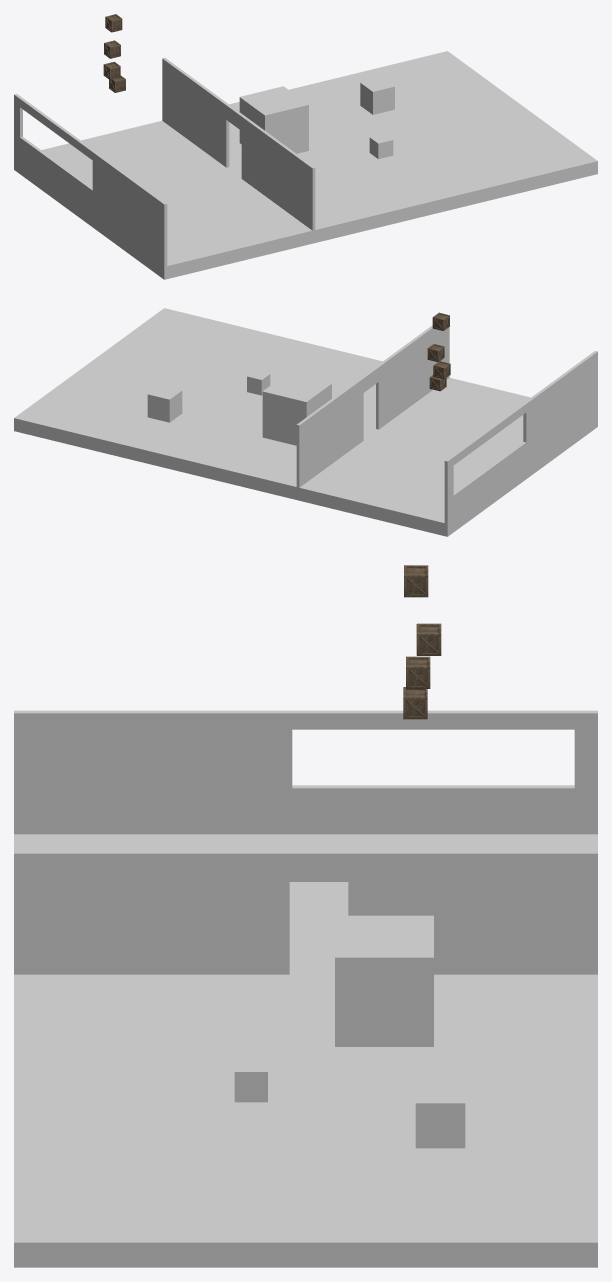
File: startingRoom.glb
3 renders of one model, top to bottom at view 1: azimuth 30°, elevation 25°; view 2: azimuth 150°, elevation 25°; view 3: azimuth 270°, elevation 25°, orthographic. The views are drawn at different scales.
Parts seen in each view (by area): view 1: Floor, Wall door, Wall glass, Cube, Cube.001, Cube.002; view 2: Floor, Wall door, Wall glass, Cube, Cube.001, Cube.002; view 3: Floor, Wall door, Wall glass, Cube, Cube.001, Cube.002.
Boxes of the visible parts, x1=… form: Floor: x1=14, y1=51, x2=597, y2=279; Wall door: x1=162, y1=57, x2=315, y2=230; Wall glass: x1=14, y1=94, x2=167, y2=266; Cube: x1=239, y1=86, x2=308, y2=153; Cube.001: x1=360, y1=77, x2=394, y2=114; Cube.002: x1=369, y1=133, x2=393, y2=158; Floor: x1=14, y1=308, x2=597, y2=536; Wall door: x1=296, y1=325, x2=449, y2=487; Wall glass: x1=444, y1=351, x2=597, y2=523; Cube: x1=262, y1=373, x2=331, y2=445; Cube.001: x1=147, y1=385, x2=182, y2=422; Cube.002: x1=247, y1=370, x2=270, y2=395; Floor: x1=14, y1=834, x2=597, y2=1267; Wall door: x1=14, y1=851, x2=597, y2=974; Wall glass: x1=14, y1=710, x2=597, y2=834; Cube: x1=335, y1=915, x2=433, y2=1046; Cube.001: x1=415, y1=1082, x2=465, y2=1148; Cube.002: x1=234, y1=1058, x2=267, y2=1102.
Bounding box in the file's own units: 19.69 × 7.53 × 11.83.
Materials: 4 (4 with a texture image).
